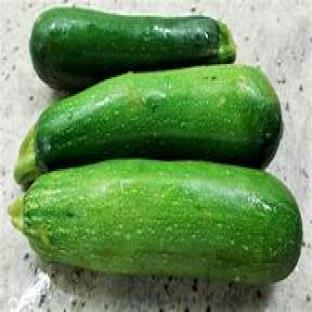Zucchini: (9, 160, 302, 283), (16, 66, 281, 184), (30, 8, 235, 90)
